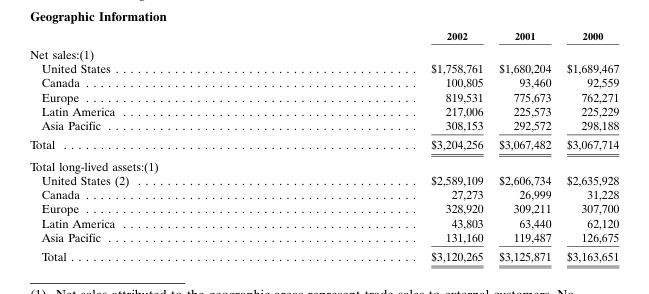table: (29, 28, 618, 263)
table column: (29, 28, 279, 263), (279, 28, 490, 263), (490, 28, 558, 263), (558, 28, 618, 263)
table column header: (29, 28, 618, 43)
table projected row header: (29, 154, 618, 172), (29, 43, 618, 60)
table row: (29, 134, 618, 154), (29, 154, 618, 172), (29, 43, 618, 60), (29, 117, 618, 134), (29, 229, 618, 246), (29, 246, 618, 263), (29, 28, 618, 43), (29, 60, 618, 75), (29, 186, 618, 201), (29, 75, 618, 89), (29, 89, 618, 103), (29, 103, 618, 117), (29, 172, 618, 186), (29, 201, 618, 215), (29, 215, 618, 229)
